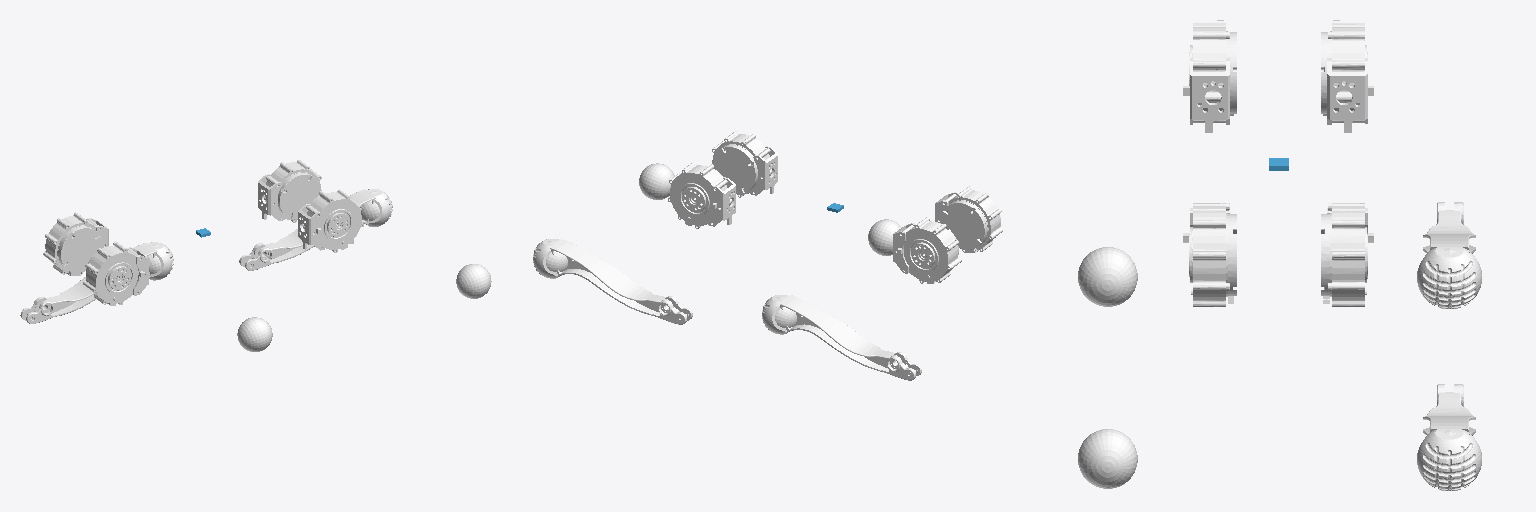
robot.urdf — robot:
<?xml version="1.0" ?>
<!-- =================================================================================== -->
<!-- |    This document was autogenerated by xacro from [local-path]/01_project/arsoft_control/src/legged_control/legged_control/legged_examples/legged_xxgo/legged_xxgo_description/urdf/robot.xacro | -->
<!-- |    EDITING THIS FILE BY HAND IS NOT RECOMMENDED                                 | -->
<!-- =================================================================================== -->
<robot name="robot">
  <material name="black">
    <color rgba="0.0 0.0 0.0 1.0"/>
  </material>
  <material name="blue">
    <color rgba="0.0 0.0 0.8 1.0"/>
  </material>
  <material name="green">
    <color rgba="0.0 0.8 0.0 1.0"/>
  </material>
  <material name="grey">
    <color rgba="0.2 0.2 0.2 1.0"/>
  </material>
  <material name="silver">
    <color rgba="0.9137254901960784 0.9137254901960784 0.8470588235294118 1.0"/>
  </material>
  <material name="orange">
    <color rgba="1.0 0.4235294117647059 0.0392156862745098 1.0"/>
  </material>
  <material name="brown">
    <color rgba="0.8705882352941177 0.8117647058823529 0.7647058823529411 1.0"/>
  </material>
  <material name="red">
    <color rgba="0.8 0.0 0.0 1.0"/>
  </material>
  <material name="white">
    <color rgba="1.0 1.0 1.0 1.0"/>
  </material>

  <link name="base">
    <visual>
      <origin rpy="0 0 0" xyz="0 0 0"/>
      <geometry>
        <mesh filename="../meshes/trunk.STL" scale="1 1 1"/>
      </geometry>
      <material name="white"/>
    </visual>
    <collision>
      <origin rpy="0 0 0" xyz="0 0 0"/>
      <geometry>
        <box size="0.238 0.18 0.14"/>
      </geometry>
    </collision>
    <inertial>
      <origin rpy="0 0 0" xyz="-0.02248608 -0.00011879 -0.00679147"/>
      <mass value="4.1430459"/>
      <inertia ixx="0.01454145" ixy="0.00017282" ixz="-0.00014576" iyy="0.02842016" iyz="4.241e-05" izz="0.03523081"/>
    </inertial>
  </link>
  <!-- Imu is fixed to the base link -->
  <joint name="base_imu_joint" type="fixed">
    <origin rpy="0. 0. 0." xyz="0. 0. 0."/>
    <parent link="base"/>
    <child link="base_imu"/>
  </joint>
  <!-- Imu link -->
  <link name="base_imu">
    <inertial>
      <mass value="0.01"/>
      <origin rpy="0 0 0" xyz="0 0 0"/>
      <inertia ixx="0.000001" ixy="0" ixz="0" iyy="0.000001" iyz="0" izz="0.000001"/>
    </inertial>
    <visual>
      <origin rpy="0 0 0" xyz="0 0 0"/>
      <geometry>
        <box size="0.015 0.015 0.004"/>
      </geometry>
    </visual>
    <material name="orange">
      <color rgba="255 108 10 255"/>
    </material>
  </link>

  <joint name="FR_hip_joint" type="revolute">
    <origin rpy="0 0 0" xyz="0.1645 -0.05 0.0"/>
    <parent link="base"/>
    <child link="FR_hip"/>
    <axis xyz="1 0 0"/>
    <dynamics damping="0.0" friction="0.2"/>
    <limit effort="12.0001" lower="-0.45" upper="0.45" velocity="30.9971"/>
  </joint>
  <link name="FR_hip">
    <visual>
      <origin rpy="0 0 0" xyz="0 0 0"/>
      <!-- <origin rpy="${pi} 0 0" xyz="0 0 0"/> -->
      <geometry>
        <mesh filename="../meshes/FR_hip_link.STL" scale="1 1 1"/>
      </geometry>
      <material name="white"/>
    </visual>
    <!-- <collision>
      <origin rpy="1.5707963267948966 0 0" xyz="0 0 0"/>
      <geometry>
        <cylinder length="0.032" radius="0.035"/>
      </geometry>
    </collision> -->
    <inertial>
      <origin rpy="0 0 0" xyz="-0.00351874 -0.00206525 -0.00048653"/>
      <mass value="0.3531958"/>
      <inertia ixx="0.00014315" ixy="1.5e-07" ixz="-4e-08" iyy="0.00026346" iyz="1.4e-07" izz="0.00017711"/>
    </inertial>
  </link>
  <joint name="FR_thigh_joint" type="revolute">
    <!-- c -->
    <!-- <origin rpy="0 0 0" xyz="0 ${thigh_offset*mirror} 0"/> -->
    <origin rpy="0 0.0 0" xyz="0 -0.08055 0"/>
    <parent link="FR_hip"/>
    <child link="FR_thigh"/>
    <!-- <axis xyz="0 -1 0"/> -->
    <axis xyz="0 1 0"/>
    <dynamics damping="0.0" friction="0.2"/>
    <limit effort="12.0001" lower="-1" upper="1.79" velocity="30.9971"/>
  </joint>
  <link name="FR_thigh">
    <visual>
      <origin rpy="0 0 0" xyz="0 0 0"/>
      <geometry>
        <mesh filename="../meshes/FR_thigh_link.STL" scale="1 1 1"/>
      </geometry>
      <material name="white"/>
    </visual>
    <collision>
      <origin rpy="0 1.5707963267948966 0" xyz="0 0 -0.06"/>
      <geometry>
        <box size="0.12 0.03 0.03"/>
      </geometry>
    </collision>
    <!-- <collision>
      <origin rpy="1.5707963267948966 0 0" xyz="0 0 0"/>
      <geometry>
        <cylinder length="0.035" radius="0.035"/>
      </geometry>
    </collision> -->
    <inertial>
      <origin rpy="0 0 0" xyz="-0.00371117 0.01697974 -0.01400046"/>
      <mass value="0.71774765"/>
      <inertia ixx="0.00144898" ixy="-5.716e-05" ixz="-0.00011203" iyy="0.00135146" iyz="-0.00019629" izz="0.00071909"/>
    </inertial>
  </link>
  <joint name="FR_calf_joint" type="revolute">
    <!-- cc -->
    <origin rpy="0 0 0" xyz="0 0 -0.12"/>
    <parent link="FR_thigh"/>
    <child link="FR_calf"/>
    <axis xyz="0 1 0"/>
    <dynamics damping="0.0" friction="0.2"/>
    <limit effort="12.0001" lower="-2.55" upper="-0.9" velocity="30.9971"/>
  </joint>
  <link name="FR_calf">
    <visual>
      <origin rpy="0 0 0" xyz="0 0 0"/>
      <geometry>
        <mesh filename="../meshes/FR_calf_link.STL" scale="1 1 1"/>
      </geometry>
      <material name="white"/>
    </visual>
    <collision>
      <origin rpy="0 1.5707963267948966 0" xyz="0 0 -0.08426"/>
      <geometry>
        <box size="0.16852 0.018 0.015"/>
      </geometry>
    </collision>
    <inertial>
      <origin rpy="0 0 0" xyz="5.074e-05 0.0001304 -0.09362007"/>
      <mass value="0.17146643"/>
      <inertia ixx="0.0008322" ixy="9e-08" ixz="3.836e-05" iyy="0.00083464" iyz="-2.18e-06" izz="3.316e-05"/>
    </inertial>
  </link>
  <joint name="FR_foot_fixed" type="fixed" dont_collapse="true">
    <origin rpy="0 0 0" xyz="0 0 -0.16852"/>
    <parent link="FR_calf"/>
    <child link="FR_foot"/>
  </joint>
  <link name="FR_foot">
    <visual>
      <origin rpy="0 0 0" xyz="0 0 0"/>
      <geometry>
        <sphere radius="0.023"/>
        <!-- <mesh filename="package://legged_xxgo_description/meshes/$(arg robot_type)/FL_toe_link.STL" scale="1 1 1"/> -->
      </geometry>
      <material name="white"/>
    </visual>
    <collision>
      <origin rpy="0 0 0" xyz="0 0 0"/>
      <geometry>
        <sphere radius="0.023"/>
      </geometry>
    </collision>
    <inertial>
      <mass value="0.05"/>
      <origin rpy="0 0 0" xyz="3.045e-05 0 -0.00104172"/>
      <inertia ixx="1.0579999999999999e-05" ixy="0.0" ixz="0.0" iyy="1.0579999999999999e-05" iyz="0.0" izz="1.0579999999999999e-05"/>
    </inertial>
    <!-- <inertial>
                <mass value="${0.0}"/>
                <inertia
                        ixx="0.0" ixy="0.0" ixz="0.0"
                        iyy="0.0" iyz="0.0"
                        izz="0.0"/>
            </inertial> -->
    <!-- <inertial>
                <mass value="${foot_mass}"/>
                <origin rpy="0 0 0" xyz="${foot_com_x} ${foot_com_y} ${foot_com_z}"/>
                <inertia
                        ixx="${foot_ixx}" ixy="${foot_ixy}" ixz="${foot_ixz}"
                        iyy="${foot_iyy}" iyz="${foot_iyz}"
                        izz="${foot_izz}"/>
            </inertial> -->
  </link>
  <joint name="FL_hip_joint" type="revolute">
    <origin rpy="0 0 0" xyz="0.1645 0.05 0.0"/>
    <parent link="base"/>
    <child link="FL_hip"/>
    <axis xyz="1 0 0"/>
    <dynamics damping="0.0" friction="0.2"/>
    <limit effort="12.0001" lower="-0.45" upper="0.45" velocity="30.9971"/>
  </joint>
  <link name="FL_hip">
    <visual>
      <origin rpy="0 0 0" xyz="0 0 0"/>
      <geometry>
        <mesh filename="../meshes/FL_hip_link.STL" scale="1 1 1"/>
      </geometry>
      <material name="white"/>
    </visual>
    <!-- <collision>
      <origin rpy="1.5707963267948966 0 0" xyz="0 0 0"/>
      <geometry>
        <cylinder length="0.032" radius="0.035"/>
      </geometry>
    </collision> -->
    <inertial>
      <origin rpy="0 0 0" xyz="-0.00351874 0.00206525 -0.00048653"/>
      <mass value="0.3531958"/>
      <inertia ixx="0.00014315" ixy="-1.5e-07" ixz="-4e-08" iyy="0.00026346" iyz="-1.4e-07" izz="0.00017711"/>
    </inertial>
  </link>
  <joint name="FL_thigh_joint" type="revolute">
    <!-- c -->
    <!-- <origin rpy="0 0 0" xyz="0 ${thigh_offset*mirror} 0"/> -->
    <origin rpy="0 0.0 0" xyz="0 0.08055 0"/>
    <parent link="FL_hip"/>
    <child link="FL_thigh"/>
    <!-- <axis xyz="0 -1 0"/> -->
    <axis xyz="0 1 0"/>
    <dynamics damping="0.0" friction="0.2"/>
    <limit effort="12.0001" lower="-1" upper="1.79" velocity="30.9971"/>
  </joint>
  <link name="FL_thigh">
    <visual>
      <origin rpy="0 0 0" xyz="0 0 0"/>
      <geometry>
        <mesh filename="../meshes/FL_thigh_link.STL" scale="1 1 1"/>
      </geometry>
      <material name="white"/>
    </visual>
    <collision>
      <origin rpy="0 1.5707963267948966 0" xyz="0 0 -0.06"/>
      <geometry>
        <box size="0.12 0.03 0.03"/>
      </geometry>
    </collision>
    <!-- <collision>
      <origin rpy="1.5707963267948966 0 0" xyz="0 0 0"/>
      <geometry>
        <cylinder length="0.035" radius="0.035"/>
      </geometry>
    </collision> -->
    <inertial>
      <origin rpy="0 0 0" xyz="-0.00371117 -0.01697974 -0.01400046"/>
      <mass value="0.71774765"/>
      <inertia ixx="0.00144898" ixy="5.716e-05" ixz="-0.00011203" iyy="0.00135146" iyz="0.00019629" izz="0.00071909"/>
    </inertial>
  </link>
  <joint name="FL_calf_joint" type="revolute">
    <!-- cc -->
    <origin rpy="0 0 0" xyz="0 0 -0.12"/>
    <parent link="FL_thigh"/>
    <child link="FL_calf"/>
    <axis xyz="0 1 0"/>
    <dynamics damping="0.0" friction="0.2"/>
    <limit effort="12.0001" lower="-2.55" upper="-0.9" velocity="30.9971"/>
  </joint>
  <link name="FL_calf">
    <visual>
      <origin rpy="0 0 0" xyz="0 0 0"/>
      <geometry>
        <mesh filename="../meshes/FL_calf_link.STL" scale="1 1 1"/>
      </geometry>
      <material name="white"/>
    </visual>
    <collision>
      <origin rpy="0 1.5707963267948966 0" xyz="0 0 -0.08426"/>
      <geometry>
        <box size="0.16852 0.018 0.015"/>
      </geometry>
    </collision>
    <inertial>
      <origin rpy="0 0 0" xyz="5.074e-05 0.0001304 -0.09362007"/>
      <mass value="0.17146643"/>
      <inertia ixx="0.0008322" ixy="9e-08" ixz="3.836e-05" iyy="0.00083464" iyz="-2.18e-06" izz="3.316e-05"/>
    </inertial>
  </link>
  <joint name="FL_foot_fixed" type="fixed" dont_collapse="true">
    <origin rpy="0 0 0" xyz="0 0 -0.16852"/>
    <parent link="FL_calf"/>
    <child link="FL_foot"/>
  </joint>
  <link name="FL_foot">
    <visual>
      <origin rpy="0 0 0" xyz="0 0 0"/>
      <geometry>
        <sphere radius="0.023"/>
        <!-- <mesh filename="package://legged_xxgo_description/meshes/$(arg robot_type)/FL_toe_link.STL" scale="1 1 1"/> -->
      </geometry>
      <material name="white"/>
    </visual>
    <collision>
      <origin rpy="0 0 0" xyz="0 0 0"/>
      <geometry>
        <sphere radius="0.023"/>
      </geometry>
    </collision>
    <inertial>
      <mass value="0.05"/>
      <origin rpy="0 0 0" xyz="3.045e-05 0 -0.00104172"/>
      <inertia ixx="1.0579999999999999e-05" ixy="0.0" ixz="0.0" iyy="1.0579999999999999e-05" iyz="0.0" izz="1.0579999999999999e-05"/>
    </inertial>
    <!-- <inertial>
                <mass value="${0.0}"/>
                <inertia
                        ixx="0.0" ixy="0.0" ixz="0.0"
                        iyy="0.0" iyz="0.0"
                        izz="0.0"/>
            </inertial> -->
    <!-- <inertial>
                <mass value="${foot_mass}"/>
                <origin rpy="0 0 0" xyz="${foot_com_x} ${foot_com_y} ${foot_com_z}"/>
                <inertia
                        ixx="${foot_ixx}" ixy="${foot_ixy}" ixz="${foot_ixz}"
                        iyy="${foot_iyy}" iyz="${foot_iyz}"
                        izz="${foot_izz}"/>
            </inertial> -->
  </link>

  <joint name="RR_hip_joint" type="revolute">
    <origin rpy="0 0 0" xyz="-0.1645 -0.05 0.0"/>
    <parent link="base"/>
    <child link="RR_hip"/>
    <axis xyz="1 0 0"/>
    <dynamics damping="0.0" friction="0.2"/>
    <limit effort="12.0001" lower="-0.45" upper="0.45" velocity="30.9971"/>
  </joint>
  <link name="RR_hip">
    <visual>
      <origin rpy="0 0 3.141592653589793" xyz="0 0 0"/>
      <geometry>
        <mesh filename="../meshes/FL_hip_link.STL" scale="1 1 1"/>
      </geometry>
      <material name="white"/>
    </visual>
    <!-- <collision>
      <origin rpy="1.5707963267948966 0 0" xyz="0 0 0"/>
      <geometry>
        <cylinder length="0.032" radius="0.035"/>
      </geometry>
    </collision> -->
    <inertial>
      <origin rpy="0 0 0" xyz="0.00351874 -0.00206525 -0.00048653"/>
      <mass value="0.3531958"/>
      <inertia ixx="0.00014315" ixy="-1.5e-07" ixz="4e-08" iyy="0.00026346" iyz="1.4e-07" izz="0.00017711"/>
    </inertial>
  </link>
  <joint name="RR_thigh_joint" type="revolute">
    <!-- c -->
    <!-- <origin rpy="0 0 0" xyz="0 ${thigh_offset*mirror} 0"/> -->
    <origin rpy="0 0.0 0" xyz="0 -0.08055 0"/>
    <parent link="RR_hip"/>
    <child link="RR_thigh"/>
    <!-- <axis xyz="0 -1 0"/> -->
    <axis xyz="0 1 0"/>
    <dynamics damping="0.0" friction="0.2"/>
    <limit effort="12.0001" lower="-1" upper="1.79" velocity="30.9971"/>
  </joint>
  <link name="RR_thigh">
    <visual>
      <origin rpy="0 0 0" xyz="0 0 0"/>
      <geometry>
        <mesh filename="../meshes/FR_thigh_link.STL" scale="1 1 1"/>
      </geometry>
      <material name="white"/>
    </visual>
    <collision>
      <origin rpy="0 1.5707963267948966 0" xyz="0 0 -0.06"/>
      <geometry>
        <box size="0.12 0.03 0.03"/>
      </geometry>
    </collision>
    <!-- <collision>
      <origin rpy="1.5707963267948966 0 0" xyz="0 0 0"/>
      <geometry>
        <cylinder length="0.035" radius="0.035"/>
      </geometry>
    </collision> -->
    <inertial>
      <origin rpy="0 0 0" xyz="-0.00371117 0.01697974 -0.01400046"/>
      <mass value="0.71774765"/>
      <inertia ixx="0.00144898" ixy="-5.716e-05" ixz="-0.00011203" iyy="0.00135146" iyz="-0.00019629" izz="0.00071909"/>
    </inertial>
  </link>
  <joint name="RR_calf_joint" type="revolute">
    <!-- cc -->
    <origin rpy="0 0 0" xyz="0 0 -0.12"/>
    <parent link="RR_thigh"/>
    <child link="RR_calf"/>
    <axis xyz="0 1 0"/>
    <dynamics damping="0.0" friction="0.2"/>
    <limit effort="12.0001" lower="-2.55" upper="-0.9" velocity="30.9971"/>
  </joint>
  <link name="RR_calf">
    <visual>
      <origin rpy="0 0 0" xyz="0 0 0"/>
      <geometry>
        <mesh filename="../meshes/FR_calf_link.STL" scale="1 1 1"/>
      </geometry>
      <material name="white"/>
    </visual>
    <collision>
      <origin rpy="0 1.5707963267948966 0" xyz="0 0 -0.08426"/>
      <geometry>
        <box size="0.16852 0.018 0.015"/>
      </geometry>
    </collision>
    <inertial>
      <origin rpy="0 0 0" xyz="5.074e-05 0.0001304 -0.09362007"/>
      <mass value="0.17146643"/>
      <inertia ixx="0.0008322" ixy="9e-08" ixz="3.836e-05" iyy="0.00083464" iyz="-2.18e-06" izz="3.316e-05"/>
    </inertial>
  </link>
  <joint name="RR_foot_fixed" type="fixed" dont_collapse="true">
    <origin rpy="0 0 0" xyz="0 0 -0.16852"/>
    <parent link="RR_calf"/>
    <child link="RR_foot"/>
  </joint>
  <link name="RR_foot">
    <visual>
      <origin rpy="0 0 0" xyz="0 0 0"/>
      <geometry>
        <sphere radius="0.023"/>
        <!-- <mesh filename="package://legged_xxgo_description/meshes/$(arg robot_type)/FL_toe_link.STL" scale="1 1 1"/> -->
      </geometry>
      <material name="white"/>
    </visual>
    <collision>
      <origin rpy="0 0 0" xyz="0 0 0"/>
      <geometry>
        <sphere radius="0.023"/>
      </geometry>
    </collision>
    <inertial>
      <mass value="0.05"/>
      <origin rpy="0 0 0" xyz="3.045e-05 0 -0.00104172"/>
      <inertia ixx="1.0579999999999999e-05" ixy="0.0" ixz="0.0" iyy="1.0579999999999999e-05" iyz="0.0" izz="1.0579999999999999e-05"/>
    </inertial>
    <!-- <inertial>
                <mass value="${0.0}"/>
                <inertia
                        ixx="0.0" ixy="0.0" ixz="0.0"
                        iyy="0.0" iyz="0.0"
                        izz="0.0"/>
            </inertial> -->
    <!-- <inertial>
                <mass value="${foot_mass}"/>
                <origin rpy="0 0 0" xyz="${foot_com_x} ${foot_com_y} ${foot_com_z}"/>
                <inertia
                        ixx="${foot_ixx}" ixy="${foot_ixy}" ixz="${foot_ixz}"
                        iyy="${foot_iyy}" iyz="${foot_iyz}"
                        izz="${foot_izz}"/>
            </inertial> -->
  </link>

  <joint name="RL_hip_joint" type="revolute">
    <origin rpy="0 0 0" xyz="-0.1645 0.05 0.0"/>
    <parent link="base"/>
    <child link="RL_hip"/>
    <axis xyz="1 0 0"/>
    <dynamics damping="0.0" friction="0.2"/>
    <limit effort="12.0001" lower="-0.45" upper="0.45" velocity="30.9971"/>
  </joint>
  <link name="RL_hip">
    <visual>
      <origin rpy="0 0 3.141592653589793" xyz="0 0 0"/>
      <geometry>
        <mesh filename="../meshes/FR_hip_link.STL" scale="1 1 1"/>
      </geometry>
      <material name="white"/>
    </visual>
    <!-- <collision>
      <origin rpy="1.5707963267948966 0 0" xyz="0 0 0"/>
      <geometry>
        <cylinder length="0.032" radius="0.035"/>
      </geometry>
    </collision> -->
    <inertial>
      <origin rpy="0 0 0" xyz="0.00351874 0.00206525 -0.00048653"/>
      <mass value="0.3531958"/>
      <inertia ixx="0.00014315" ixy="1.5e-07" ixz="4e-08" iyy="0.00026346" iyz="-1.4e-07" izz="0.00017711"/>
    </inertial>
  </link>
  <joint name="RL_thigh_joint" type="revolute">
    <!-- c -->
    <!-- <origin rpy="0 0 0" xyz="0 ${thigh_offset*mirror} 0"/> -->
    <origin rpy="0 0.0 0" xyz="0 0.08055 0"/>
    <parent link="RL_hip"/>
    <child link="RL_thigh"/>
    <!-- <axis xyz="0 -1 0"/> -->
    <axis xyz="0 1 0"/>
    <dynamics damping="0.0" friction="0.2"/>
    <limit effort="12.0001" lower="-1" upper="1.79" velocity="30.9971"/>
  </joint>
  <link name="RL_thigh">
    <visual>
      <origin rpy="0 0 0" xyz="0 0 0"/>
      <geometry>
        <mesh filename="../meshes/FL_thigh_link.STL" scale="1 1 1"/>
      </geometry>
      <material name="white"/>
    </visual>
    <collision>
      <origin rpy="0 1.5707963267948966 0" xyz="0 0 -0.06"/>
      <geometry>
        <box size="0.12 0.03 0.03"/>
      </geometry>
    </collision>
    <!-- <collision>
      <origin rpy="1.5707963267948966 0 0" xyz="0 0 0"/>
      <geometry>
        <cylinder length="0.035" radius="0.035"/>
      </geometry>
    </collision> -->
    <inertial>
      <origin rpy="0 0 0" xyz="-0.00371117 -0.01697974 -0.01400046"/>
      <mass value="0.71774765"/>
      <inertia ixx="0.00144898" ixy="5.716e-05" ixz="-0.00011203" iyy="0.00135146" iyz="0.00019629" izz="0.00071909"/>
    </inertial>
  </link>
  <joint name="RL_calf_joint" type="revolute">
    <!-- cc -->
    <origin rpy="0 0 0" xyz="0 0 -0.12"/>
    <parent link="RL_thigh"/>
    <child link="RL_calf"/>
    <axis xyz="0 1 0"/>
    <dynamics damping="0.0" friction="0.2"/>
    <limit effort="12.0001" lower="-2.55" upper="-0.9" velocity="30.9971"/>
  </joint>
  <link name="RL_calf">
    <visual>
      <origin rpy="0 0 0" xyz="0 0 0"/>
      <geometry>
        <mesh filename="../meshes/FL_calf_link.STL" scale="1 1 1"/>
      </geometry>
      <material name="white"/>
    </visual>
    <collision>
      <origin rpy="0 1.5707963267948966 0" xyz="0 0 -0.08426"/>
      <geometry>
        <box size="0.16852 0.018 0.015"/>
      </geometry>
    </collision>
    <inertial>
      <origin rpy="0 0 0" xyz="5.074e-05 0.0001304 -0.09362007"/>
      <mass value="0.17146643"/>
      <inertia ixx="0.0008322" ixy="9e-08" ixz="3.836e-05" iyy="0.00083464" iyz="-2.18e-06" izz="3.316e-05"/>
    </inertial>
  </link>
  <joint name="RL_foot_fixed" type="fixed" dont_collapse="true">
    <origin rpy="0 0 0" xyz="0 0 -0.16852"/>
    <parent link="RL_calf"/>
    <child link="RL_foot"/>
  </joint>
  <link name="RL_foot">
    <visual>
      <origin rpy="0 0 0" xyz="0 0 0"/>
      <geometry>
        <sphere radius="0.023"/>
        <!-- <mesh filename="../meshes/$(arg robot_type)/FL_toe_link.STL" scale="1 1 1"/> -->
      </geometry>
      <material name="white"/>
    </visual>
    <collision>
      <origin rpy="0 0 0" xyz="0 0 0"/>
      <geometry>
        <sphere radius="0.023"/>
      </geometry>
    </collision>
    <inertial>
      <mass value="0.05"/>
      <origin rpy="0 0 0" xyz="3.045e-05 0 -0.00104172"/>
      <inertia ixx="1.0579999999999999e-05" ixy="0.0" ixz="0.0" iyy="1.0579999999999999e-05" iyz="0.0" izz="1.0579999999999999e-05"/>
    </inertial>
    <!-- <inertial>
                <mass value="${0.0}"/>
                <inertia
                        ixx="0.0" ixy="0.0" ixz="0.0"
                        iyy="0.0" iyz="0.0"
                        izz="0.0"/>
            </inertial> -->
    <!-- <inertial>
                <mass value="${foot_mass}"/>
                <origin rpy="0 0 0" xyz="${foot_com_x} ${foot_com_y} ${foot_com_z}"/>
                <inertia
                        ixx="${foot_ixx}" ixy="${foot_ixy}" ixz="${foot_ixz}"
                        iyy="${foot_iyy}" iyz="${foot_iyz}"
                        izz="${foot_izz}"/>
            </inertial> -->
  </link>

  <!-- Robot Footprint -->
  <!-- <joint name="footprint_joint" type="fixed">
        <parent link="base"/>
        <child link="base_footprint"/>
        <origin xyz="0.0 0.0 -0.2" rpy="0 0 0"/>
    </joint>

    <link name="base_footprint">
      <inertial>
      <origin xyz="0 0 0" rpy="${pi/2} 0 ${pi/2}"/>      
      <mass value="0.001"/>
      <inertia ixx="0.0" ixy="0.0" ixz="0.0" iyy="0.0" iyz="0.0" izz="0.0"/>
    </inertial>
    </link>

    <xacro:lidar parent="base" xyz="-0.065 0. 0.1" rpy="0. 0. 0."/> -->
</robot>

--- Facts derived from the render (not from the file) ---
The picture shows the robot from 3 angles, left to right: view 1: azimuth 30°, elevation 25°; view 2: azimuth 150°, elevation 25°; view 3: azimuth 270°, elevation 25°; orthographic projection.
Robot: robot — 18 links, 17 joints (12 revolute, 5 fixed); root link base; default pose: joints at zero except 4 at the middle of their limits (FR_calf_joint = -1.73, FL_calf_joint = -1.73, RR_calf_joint = -1.73, RL_calf_joint = -1.73).
Visible links, largest first — view 1: FR_hip, RR_hip, FL_hip, RL_hip, RL_calf, FL_calf, FR_foot, RR_foot; view 2: FL_calf, RL_calf, FL_hip, RL_hip, FR_hip, RR_hip, FR_foot, RR_foot; view 3: FL_calf, RL_calf, FR_hip, RR_hip, FL_hip, RL_hip, RR_foot, FR_foot.
Link boxes in pixels (box(x1,y1,x2,y2)): FR_hip: box(298, 189, 363, 252); RR_hip: box(83, 241, 148, 305); FL_hip: box(258, 160, 321, 222); RL_hip: box(43, 212, 108, 275); RL_calf: box(20, 242, 173, 323); FL_calf: box(239, 189, 392, 270); FR_foot: box(456, 264, 491, 298); RR_foot: box(237, 317, 272, 351); FL_calf: box(533, 239, 692, 324); RL_calf: box(762, 295, 921, 380); FL_hip: box(668, 162, 735, 228); RL_hip: box(893, 217, 961, 283); FR_hip: box(712, 131, 777, 197); RR_hip: box(935, 186, 1002, 252); FR_foot: box(639, 163, 674, 199); RR_foot: box(868, 219, 901, 255); FL_calf: box(1417, 384, 1481, 490); RL_calf: box(1417, 202, 1481, 308); FR_hip: box(1183, 203, 1236, 306); RR_hip: box(1183, 20, 1236, 132); FL_hip: box(1321, 203, 1373, 306); RL_hip: box(1321, 20, 1373, 132); RR_foot: box(1078, 247, 1137, 306); FR_foot: box(1078, 429, 1137, 488).
Bounding box of the posed robot: 0.5595 × 0.3091 × 0.1766 m (x, y, z).
6 mesh visuals loaded from 7 distinct referenced files (3 binary STL); not drawn: 7 (reference not matched to a file when rendering).
